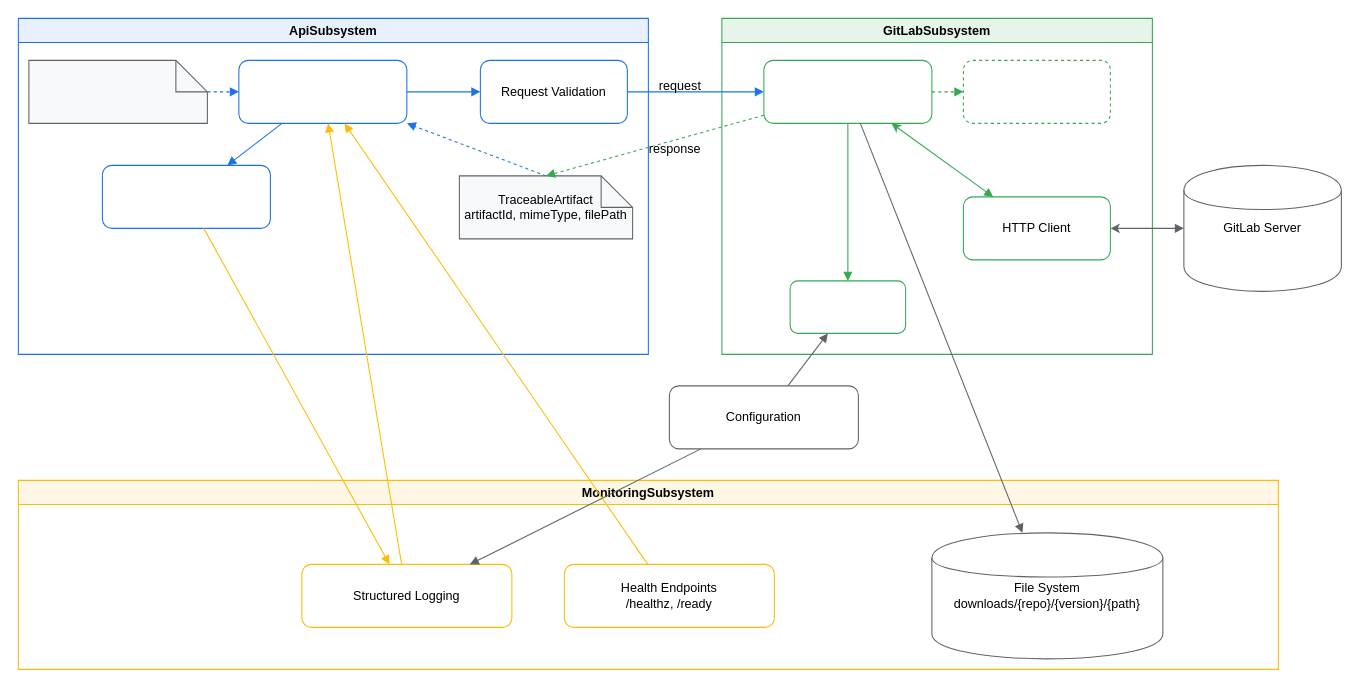
Some shapes in this 1360 by 688 pixel diagram are drawn without their labels. The shapes that lost their labels are listed below. From the top down, each one's centre as x and y in pixels, then its label:
At (x=117, y=91): "ArtifactDescriptor repository, artifactPath, versionSelector".
At (x=322, y=91): "FastAPI Gateway".
At (x=847, y=91): "GitLab Client".
At (x=1036, y=91): "GitLabPort (interface)".
At (x=185, y=196): "Correlation ID Middleware".
At (x=847, y=306): "GitLabClientConfig".
